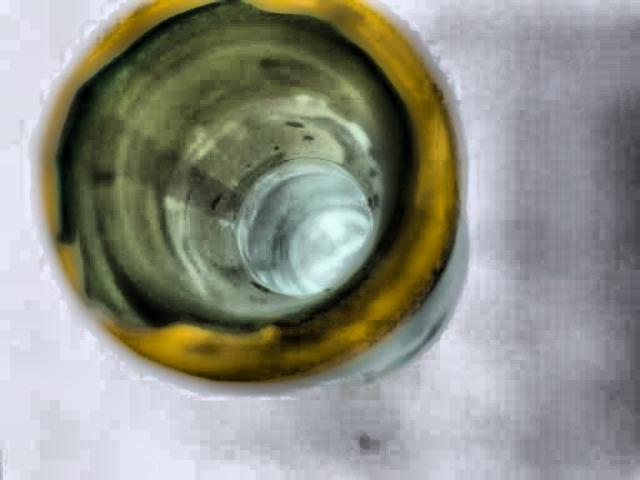Bottles: (32, 0, 480, 410)
